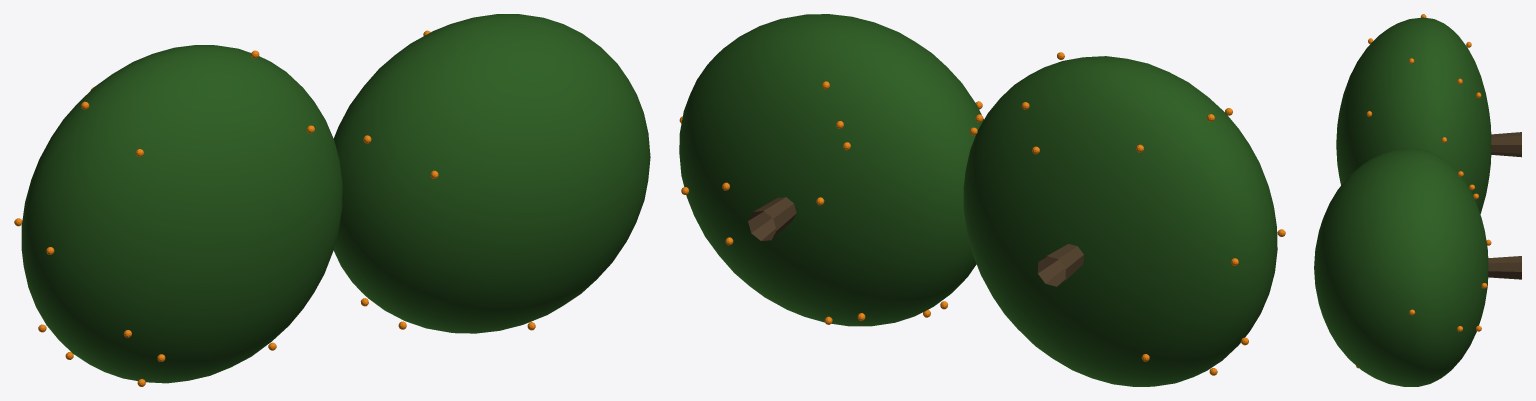
File: citrus_plain2_c_fruit.obj
3 views of the same model, side by side, from view 1: azimuth 30°, elevation 25°; view 2: azimuth 150°, elevation 25°; view 3: azimuth 270°, elevation 25° (orthographic). The views are drawn at different scales.
Parts seen in each view (by area): view 1: canopy, fruit; view 2: canopy, trunk, fruit; view 3: canopy, trunk, fruit.
Boxes of the visible parts, x1=… form: canopy: x1=21, y1=14, x2=650, y2=383; fruit: x1=14, y1=30, x2=535, y2=386; canopy: x1=679, y1=14, x2=1277, y2=386; trunk: x1=748, y1=197, x2=1083, y2=286; fruit: x1=679, y1=52, x2=1285, y2=375; canopy: x1=1314, y1=17, x2=1491, y2=386; trunk: x1=1488, y1=132, x2=1521, y2=279; fruit: x1=1356, y1=14, x2=1491, y2=368.
Size of the model in its own units: 6.16 by 3.23 by 2.52.
